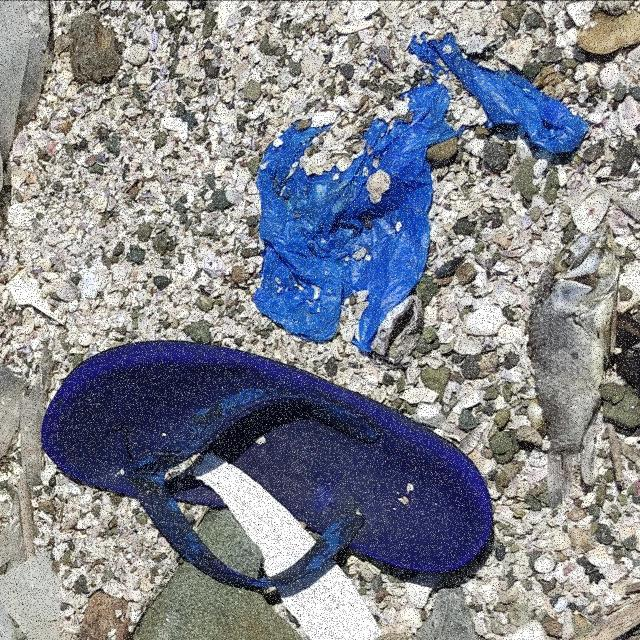plastic_waste: (255, 34, 590, 351)
rubber_waste: (43, 343, 502, 591)
